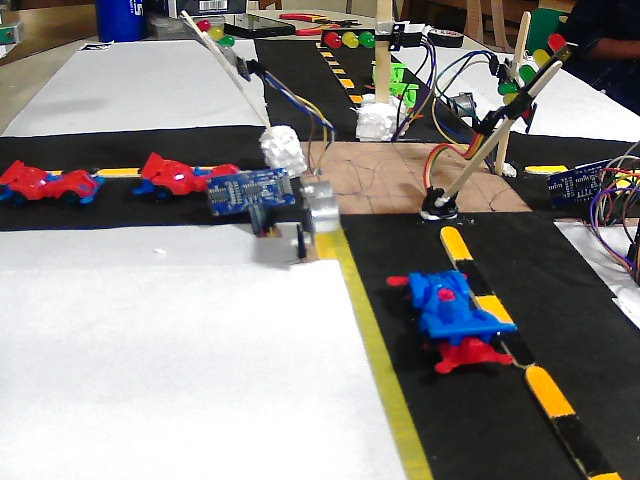aruco_marker: (76, 39, 108, 51)
black_strip: (548, 414, 611, 474), (452, 258, 491, 291), (497, 330, 532, 366), (62, 165, 99, 174), (508, 159, 526, 173), (564, 162, 580, 171), (346, 87, 358, 95), (324, 54, 336, 59), (337, 72, 346, 78), (330, 63, 340, 66)
car: (392, 264, 512, 369), (1, 159, 106, 207), (144, 156, 243, 198)
mixed_lane: (440, 221, 621, 480), (313, 37, 361, 105), (512, 155, 571, 175), (92, 164, 138, 180), (609, 165, 640, 177)
traffic_light: (512, 38, 564, 83), (196, 12, 236, 48), (497, 78, 528, 120), (318, 33, 378, 48)
uno_breadboard: (209, 165, 295, 218), (548, 157, 617, 204), (291, 175, 340, 241), (443, 97, 475, 119)
yellow_strip: (521, 363, 571, 416), (441, 226, 473, 258), (475, 293, 508, 320), (526, 162, 566, 174), (104, 165, 138, 179), (595, 473, 620, 480), (328, 63, 342, 72), (348, 93, 362, 102), (340, 77, 352, 87), (628, 168, 640, 177), (313, 39, 327, 45), (320, 51, 330, 57)
